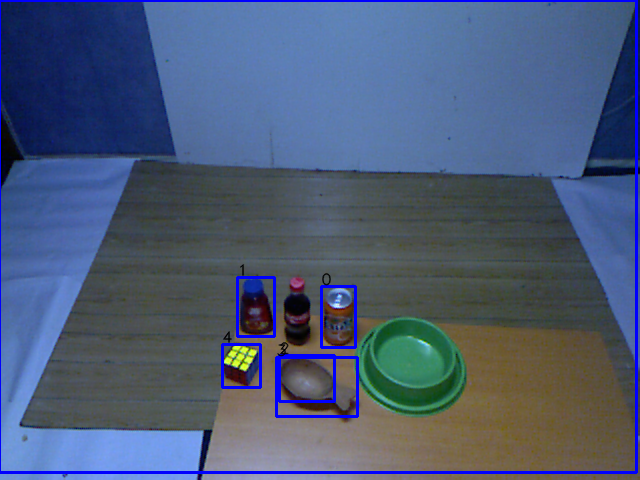coca: (278, 273, 318, 346)
cubix: (219, 340, 263, 388)
ketchup: (234, 273, 278, 338)
lata: (319, 284, 359, 348)
pescado: (268, 351, 363, 423)
platoperro: (349, 314, 472, 419)
